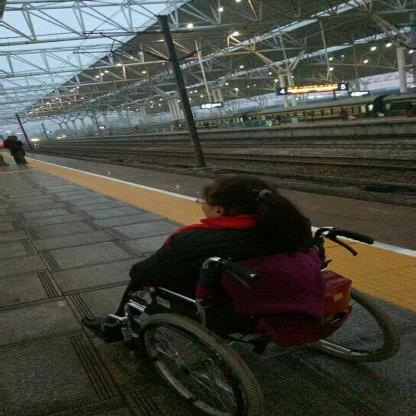wheelchair: (66, 183, 402, 413)
